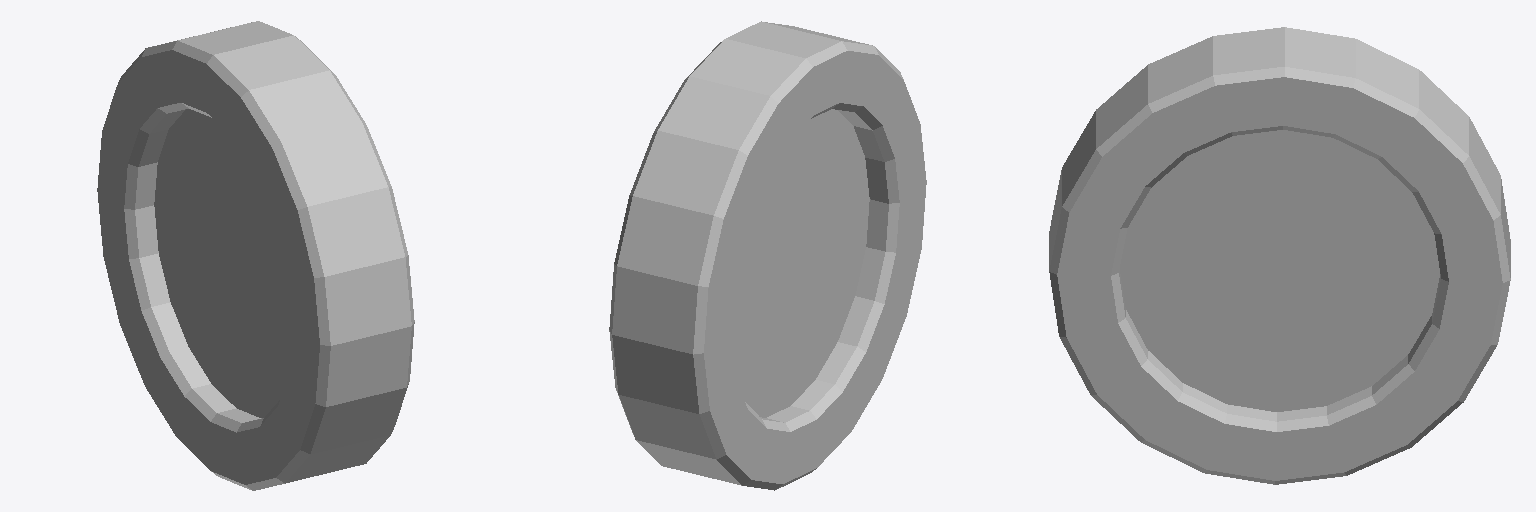
The model's file is coin.obj.
3 renders of one model, left to right at view 1: azimuth 30°, elevation 25°; view 2: azimuth 150°, elevation 25°; view 3: azimuth 270°, elevation 25°, orthographic.
Parts seen in each view (by area): view 1: Coin; view 2: Coin; view 3: Coin.
Part boxes in pixels (x1,y1,x2,y2): Coin: (97,21,414,490); Coin: (609,21,926,490); Coin: (1049,27,1510,484).
Size of the model in its own units: 0.1891 by 0.7998 by 0.7998.